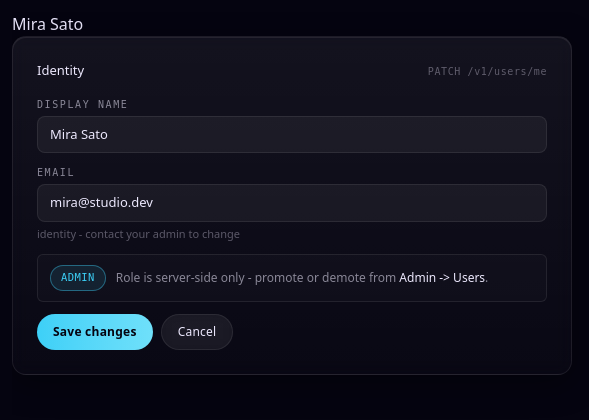
Scenario: on 200 the AuthProvider user is replaced, not just the local input
Expected: the text with test id "probe-name" reads "Mira Sato", x1=12 y1=13 x2=83 y2=35
Replace the text in the field labelled "Display name" with "Mira Renamed" at (292, 134), box x1=37 y1=116 x2=547 y2=153
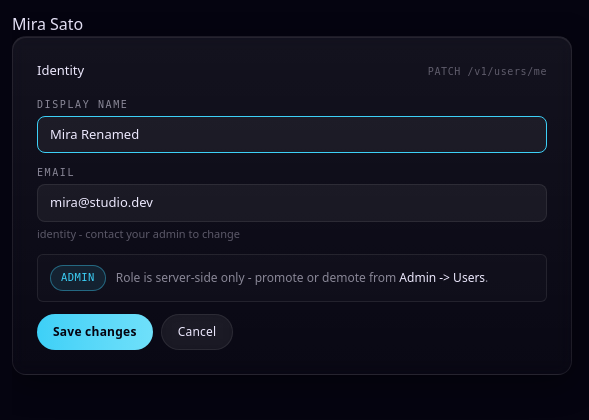
Click the button "Save changes" at (95, 332), box x1=37 y1=314 x2=153 y2=350
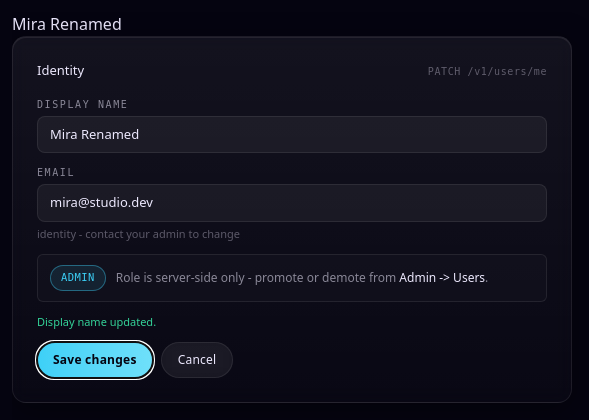
Now the text with test id "probe-name" reads "Mira Renamed", box x1=12 y1=13 x2=122 y2=35
Now the message reads "Display name updated.", box x1=37 y1=314 x2=156 y2=329
